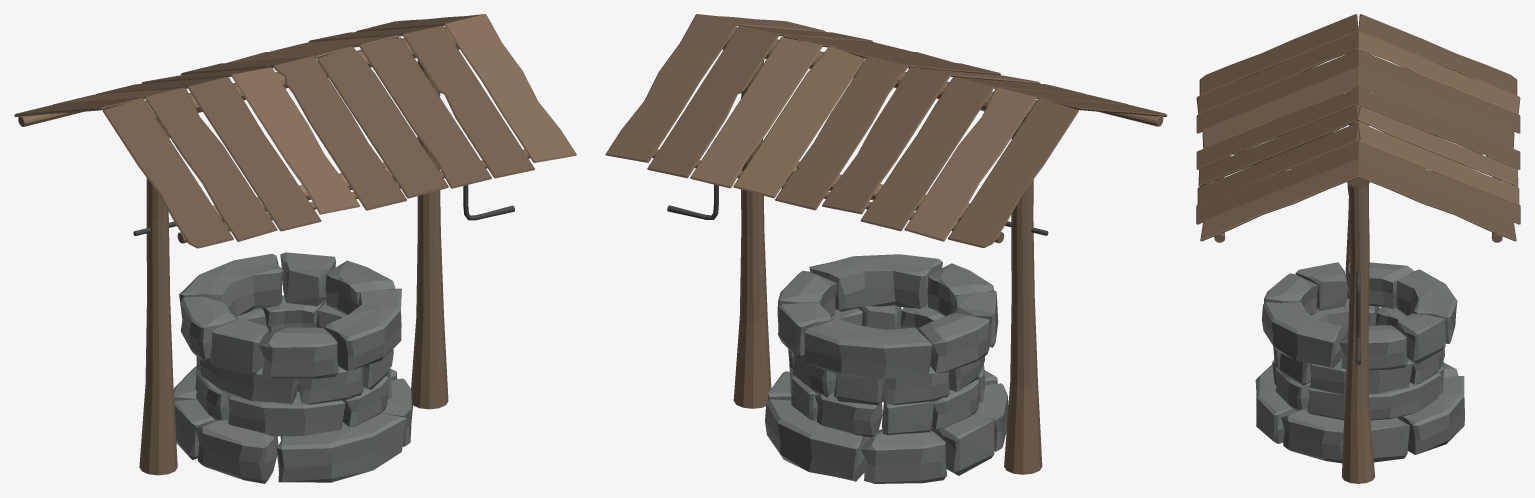
File: Well.fbx
3 views of the same model, side by side, from view 1: azimuth 30°, elevation 25°; view 2: azimuth 150°, elevation 25°; view 3: azimuth 270°, elevation 25° (orthographic). The views are drawn at different scales.
Parts seen in each view (by area): view 1: Plane, Cube.003, Cube, Cylinder, Cube.002, Cylinder.001, Cube.001, Cylinder.005, Cylinder.004; view 2: Plane, Cube.003, Cube, Cylinder, Cube.002, Cylinder.001, Cube.001, Cylinder.005, Cylinder.004; view 3: Plane, Cube.003, Cube, Cylinder.001, Cube.002, Cube.001, Cylinder.004.
Part boxes in pixels (bbox=[...]): Plane: bbox=[14, 14, 576, 248]; Cube.003: bbox=[179, 252, 401, 378]; Cube: bbox=[173, 366, 412, 483]; Cylinder: bbox=[139, 122, 177, 475]; Cube.002: bbox=[196, 295, 393, 404]; Cylinder.001: bbox=[411, 60, 448, 409]; Cube.001: bbox=[195, 363, 391, 436]; Cylinder.005: bbox=[18, 111, 529, 243]; Cylinder.004: bbox=[133, 185, 514, 235]; Plane: bbox=[605, 14, 1167, 247]; Cube.003: bbox=[777, 254, 998, 379]; Cube: bbox=[765, 370, 1008, 483]; Cylinder: bbox=[1004, 121, 1042, 474]; Cube.002: bbox=[788, 305, 984, 405]; Cylinder.001: bbox=[733, 60, 771, 408]; Cube.001: bbox=[789, 364, 984, 437]; Cylinder.005: bbox=[652, 111, 1163, 243]; Cylinder.004: bbox=[667, 184, 1048, 235]; Plane: bbox=[1196, 14, 1520, 241]; Cube.003: bbox=[1262, 262, 1457, 370]; Cube: bbox=[1255, 362, 1464, 463]; Cylinder.001: bbox=[1341, 184, 1375, 483]; Cube.002: bbox=[1273, 298, 1444, 394]; Cube.001: bbox=[1272, 359, 1444, 420]; Cylinder.004: bbox=[1355, 270, 1361, 365].
Bounding box in the file's own units: 183 × 160 × 143.
